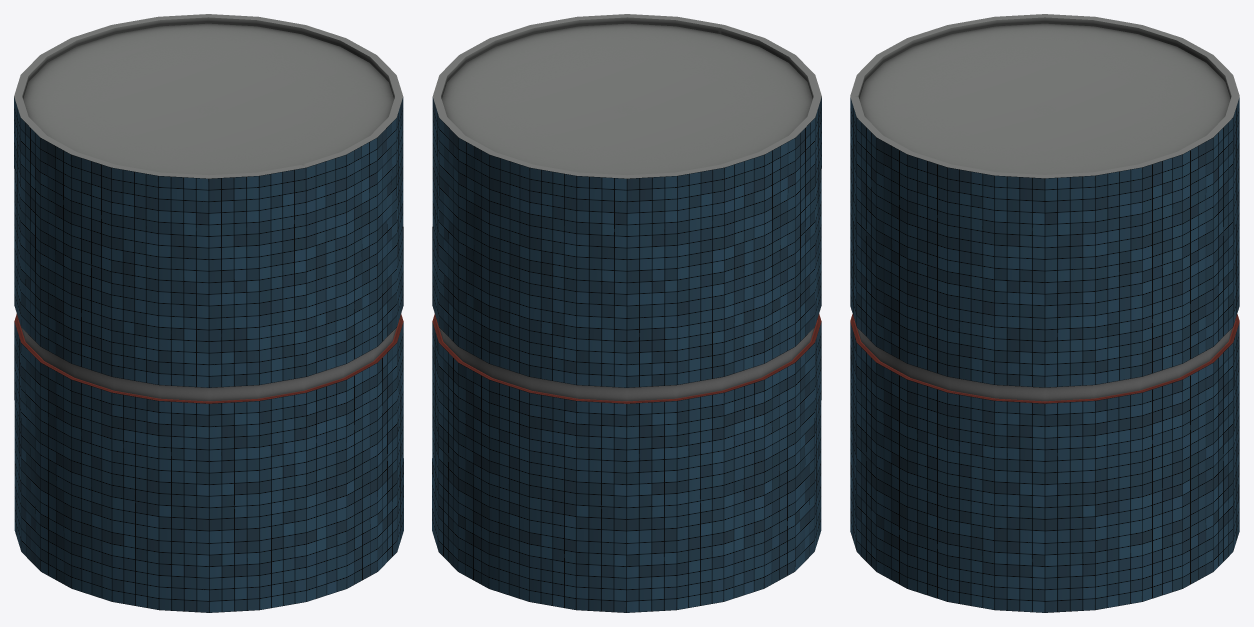
The model's file is HS-308_armorpaint.fbx.
3 renders of one model, left to right at view 1: azimuth 30°, elevation 25°; view 2: azimuth 150°, elevation 25°; view 3: azimuth 270°, elevation 25°, orthographic.
Parts seen in each view (by area): view 1: Body; view 2: Body; view 3: Body.
Part boxes in pixels (x1,y1,x2,y2): Body: (14,14,403,612); Body: (432,14,821,612); Body: (850,14,1239,612).
Size of the model in its own units: 171 by 211 by 171.
1 material, 1 textured.
